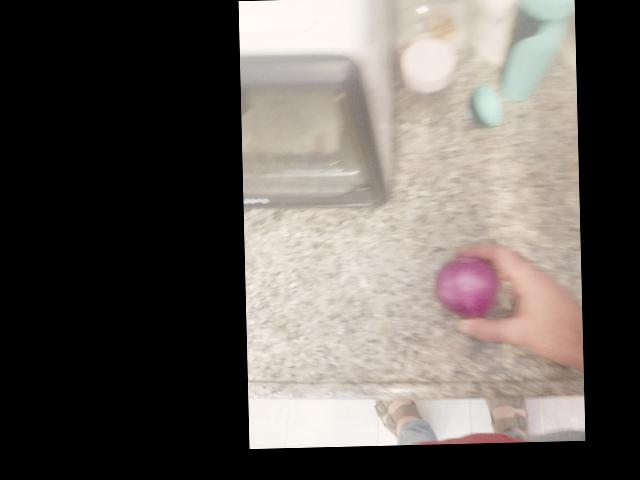onion: (242, 189, 326, 268)
